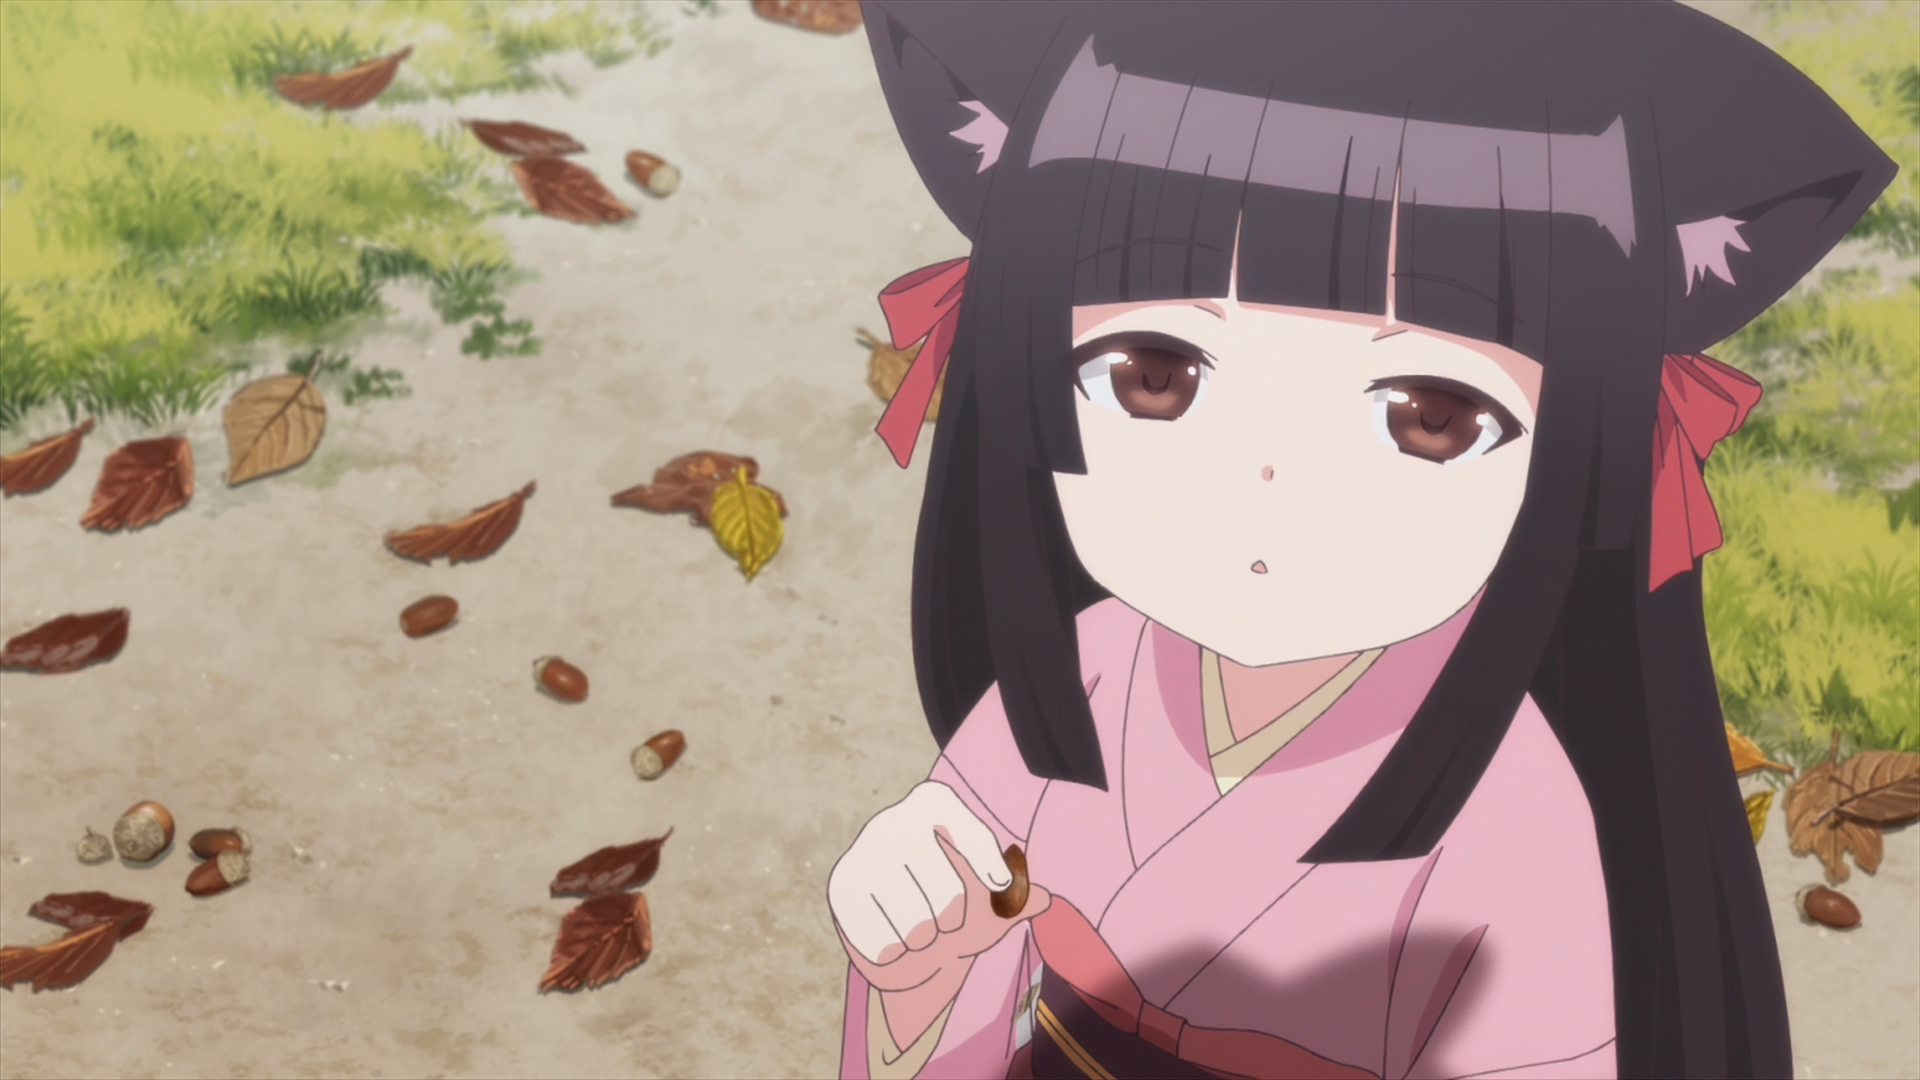樱: (827, 1, 1902, 1080)
